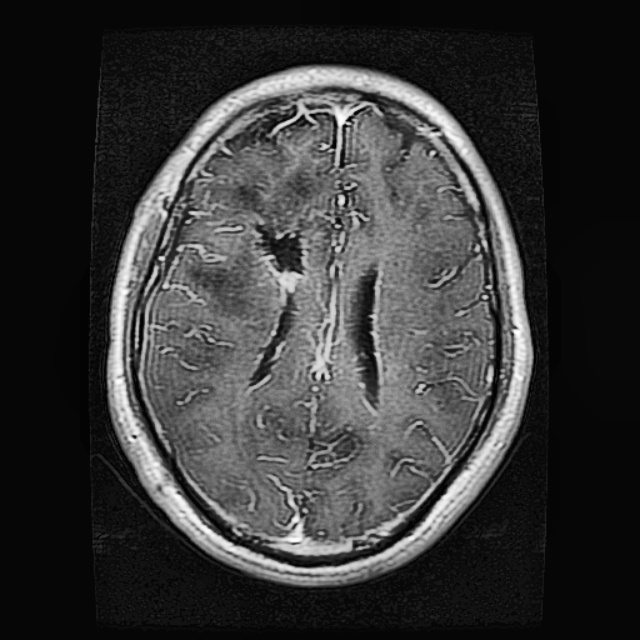Glioma: (175, 134, 330, 307)
